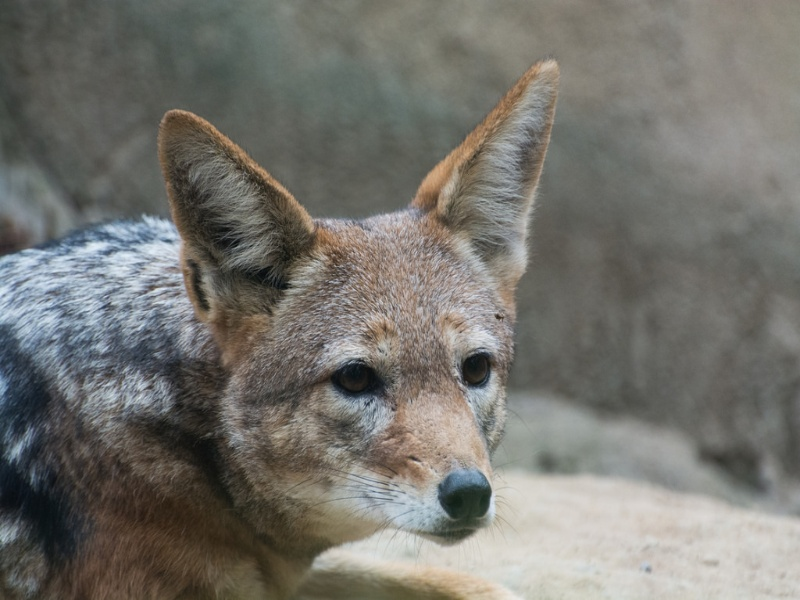fox: (1, 57, 561, 587)
